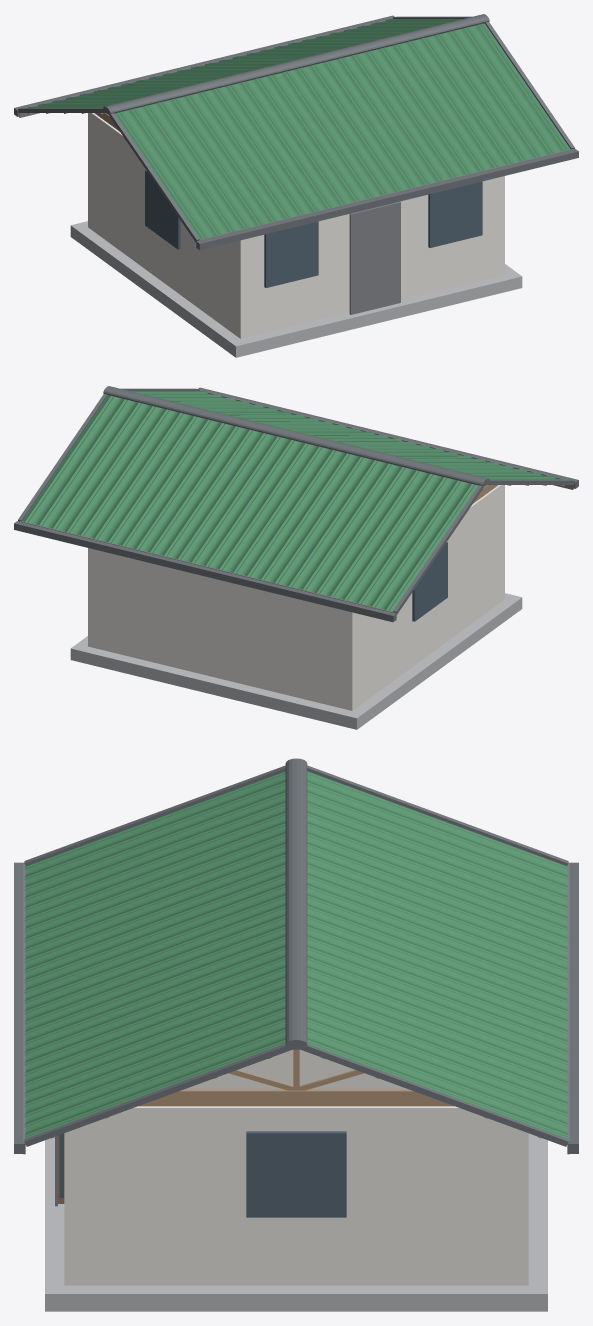
Rendered from Mega_Twin_Rib_Starter_House_6x6.glb.
The picture shows the model from 3 angles, top to bottom: view 1: azimuth 30°, elevation 25°; view 2: azimuth 150°, elevation 25°; view 3: azimuth 270°, elevation 25°; orthographic projection. The views are drawn at different scales.
Visible parts, largest first — view 1: GroundFloor_Walls, Foundation, RoofSheet_02, RoofSheet_03, RoofSheet_05, RoofSheet_04, RoofSheet_06, RoofSheet_08, RoofSheet_07, RoofSheet_09, RoofSheet_01, Door_Frame (+19 smaller); view 2: GroundFloor_Walls, Foundation, RoofSheet_11, RoofSheet_12, RoofSheet_14, RoofSheet_13, RoofSheet_15, RoofSheet_17, RoofSheet_16, RoofSheet_18, RoofSheet_10, Ridge_Cap (+16 smaller); view 3: GroundFloor_Walls, Foundation, Window_Side_Right, RoofSheet_02, RoofSheet_04, RoofSheet_05, RoofSheet_06, RoofSheet_08, RoofSheet_11, RoofSheet_13, RoofSheet_14, RoofSheet_15 (+21 smaller).
Part boxes in pixels (bbox=[...]): GroundFloor_Walls: bbox=[88, 113, 504, 338]; Foundation: bbox=[70, 221, 522, 357]; RoofSheet_02: bbox=[153, 94, 280, 229]; RoofSheet_03: bbox=[195, 84, 322, 219]; RoofSheet_05: bbox=[278, 63, 405, 199]; RoofSheet_04: bbox=[237, 74, 363, 209]; RoofSheet_06: bbox=[320, 53, 446, 189]; RoofSheet_08: bbox=[403, 33, 530, 168]; RoofSheet_07: bbox=[361, 43, 488, 179]; RoofSheet_09: bbox=[445, 23, 570, 158]; RoofSheet_01: bbox=[115, 104, 238, 239]; Door_Frame: bbox=[349, 201, 400, 314]; GroundFloor_Walls: bbox=[88, 485, 504, 710]; Foundation: bbox=[70, 593, 522, 729]; RoofSheet_11: bbox=[312, 466, 439, 601]; RoofSheet_12: bbox=[270, 456, 397, 591]; RoofSheet_14: bbox=[187, 435, 314, 571]; RoofSheet_13: bbox=[229, 446, 355, 581]; RoofSheet_15: bbox=[146, 425, 272, 561]; RoofSheet_17: bbox=[62, 405, 189, 540]; RoofSheet_16: bbox=[104, 415, 231, 551]; RoofSheet_18: bbox=[22, 395, 147, 530]; RoofSheet_10: bbox=[354, 476, 477, 611]; Ridge_Cap: bbox=[103, 386, 489, 486]; GroundFloor_Walls: bbox=[64, 1106, 528, 1285]; Foundation: bbox=[45, 1133, 547, 1311]; Window_Side_Right: bbox=[246, 1131, 346, 1217]; RoofSheet_02: bbox=[24, 800, 285, 926]; RoofSheet_04: bbox=[24, 862, 285, 988]; RoofSheet_05: bbox=[24, 893, 285, 1018]; RoofSheet_06: bbox=[24, 924, 285, 1049]; RoofSheet_08: bbox=[24, 986, 285, 1111]; RoofSheet_11: bbox=[307, 800, 568, 926]; RoofSheet_13: bbox=[307, 862, 568, 988]; RoofSheet_14: bbox=[307, 893, 568, 1018]; RoofSheet_15: bbox=[307, 924, 568, 1049].
Bounding box in the file's own units: 8.6 × 4.36 × 7.3.
